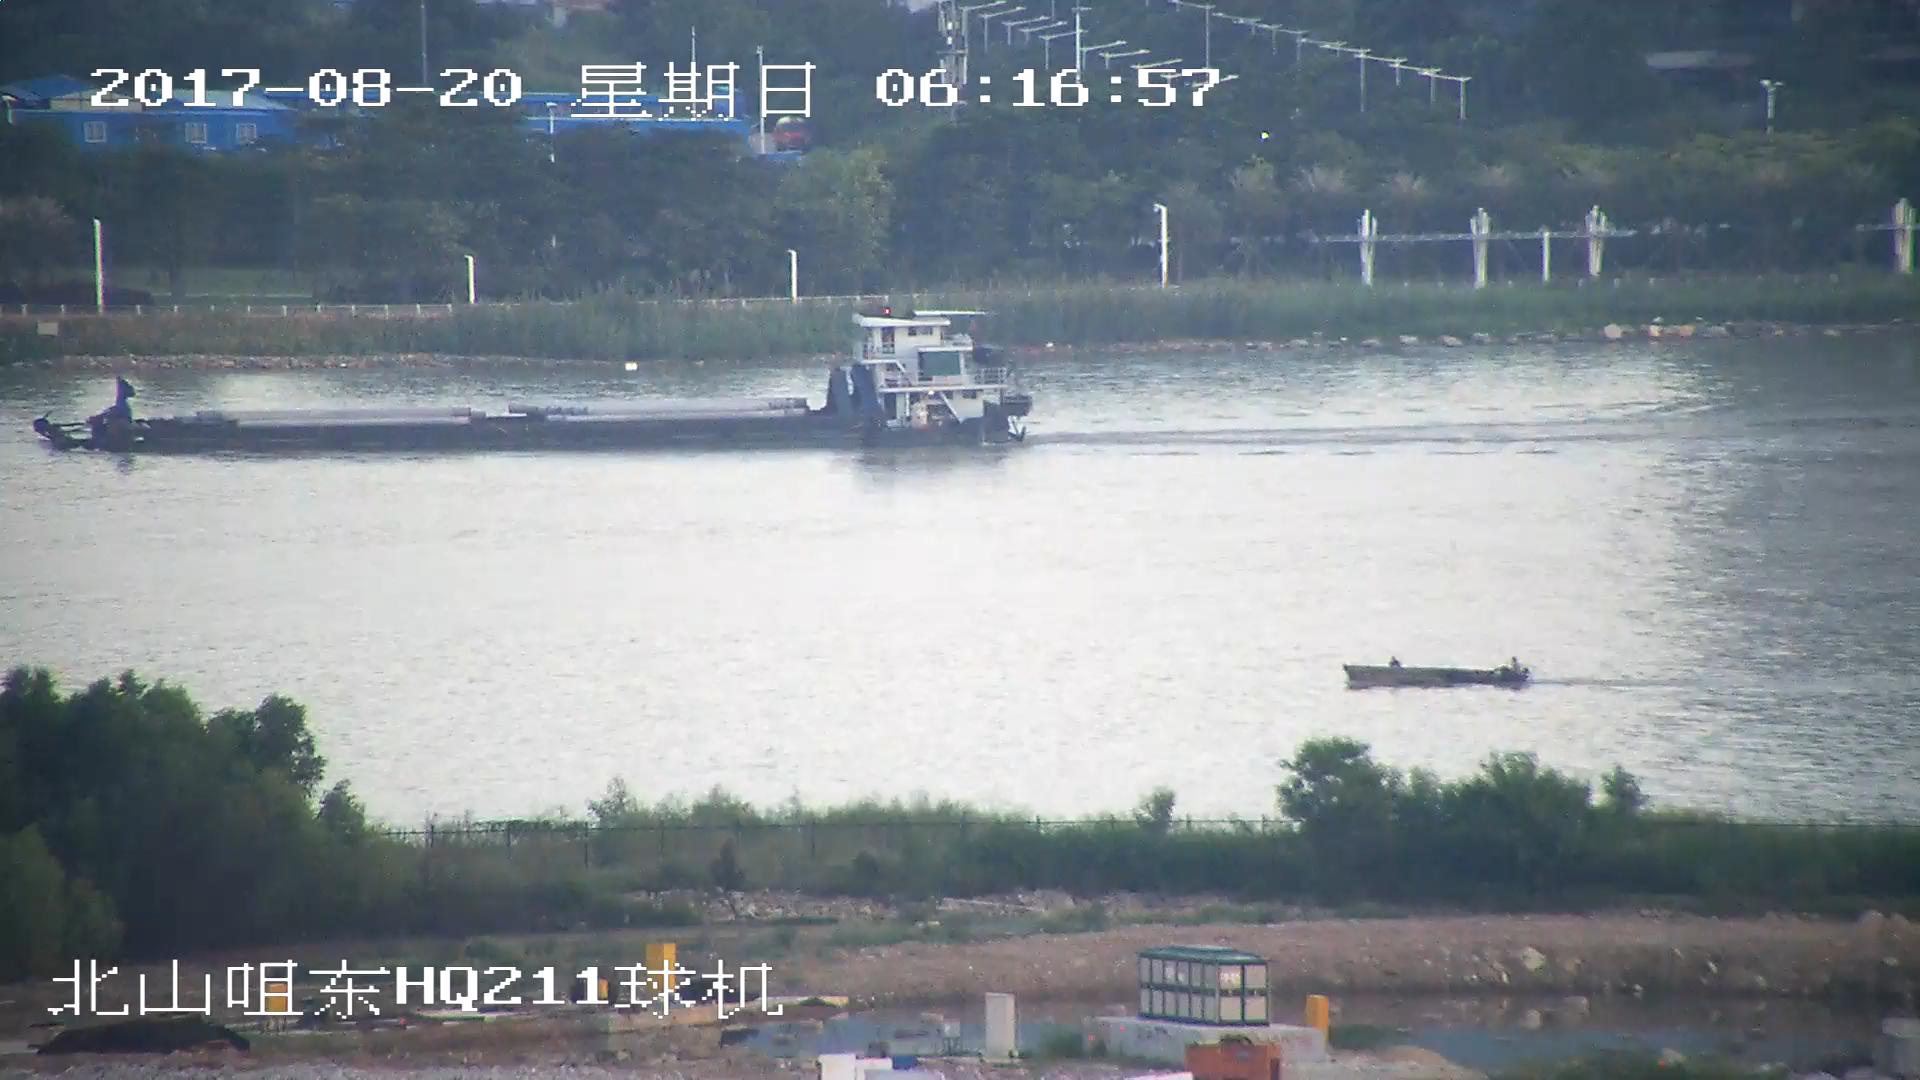bulk cargo carrier: (33, 306, 1037, 447)
fishing boat: (1346, 655, 1529, 692)
